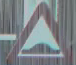Speed Breaker ahead: (5, 1, 68, 61)
